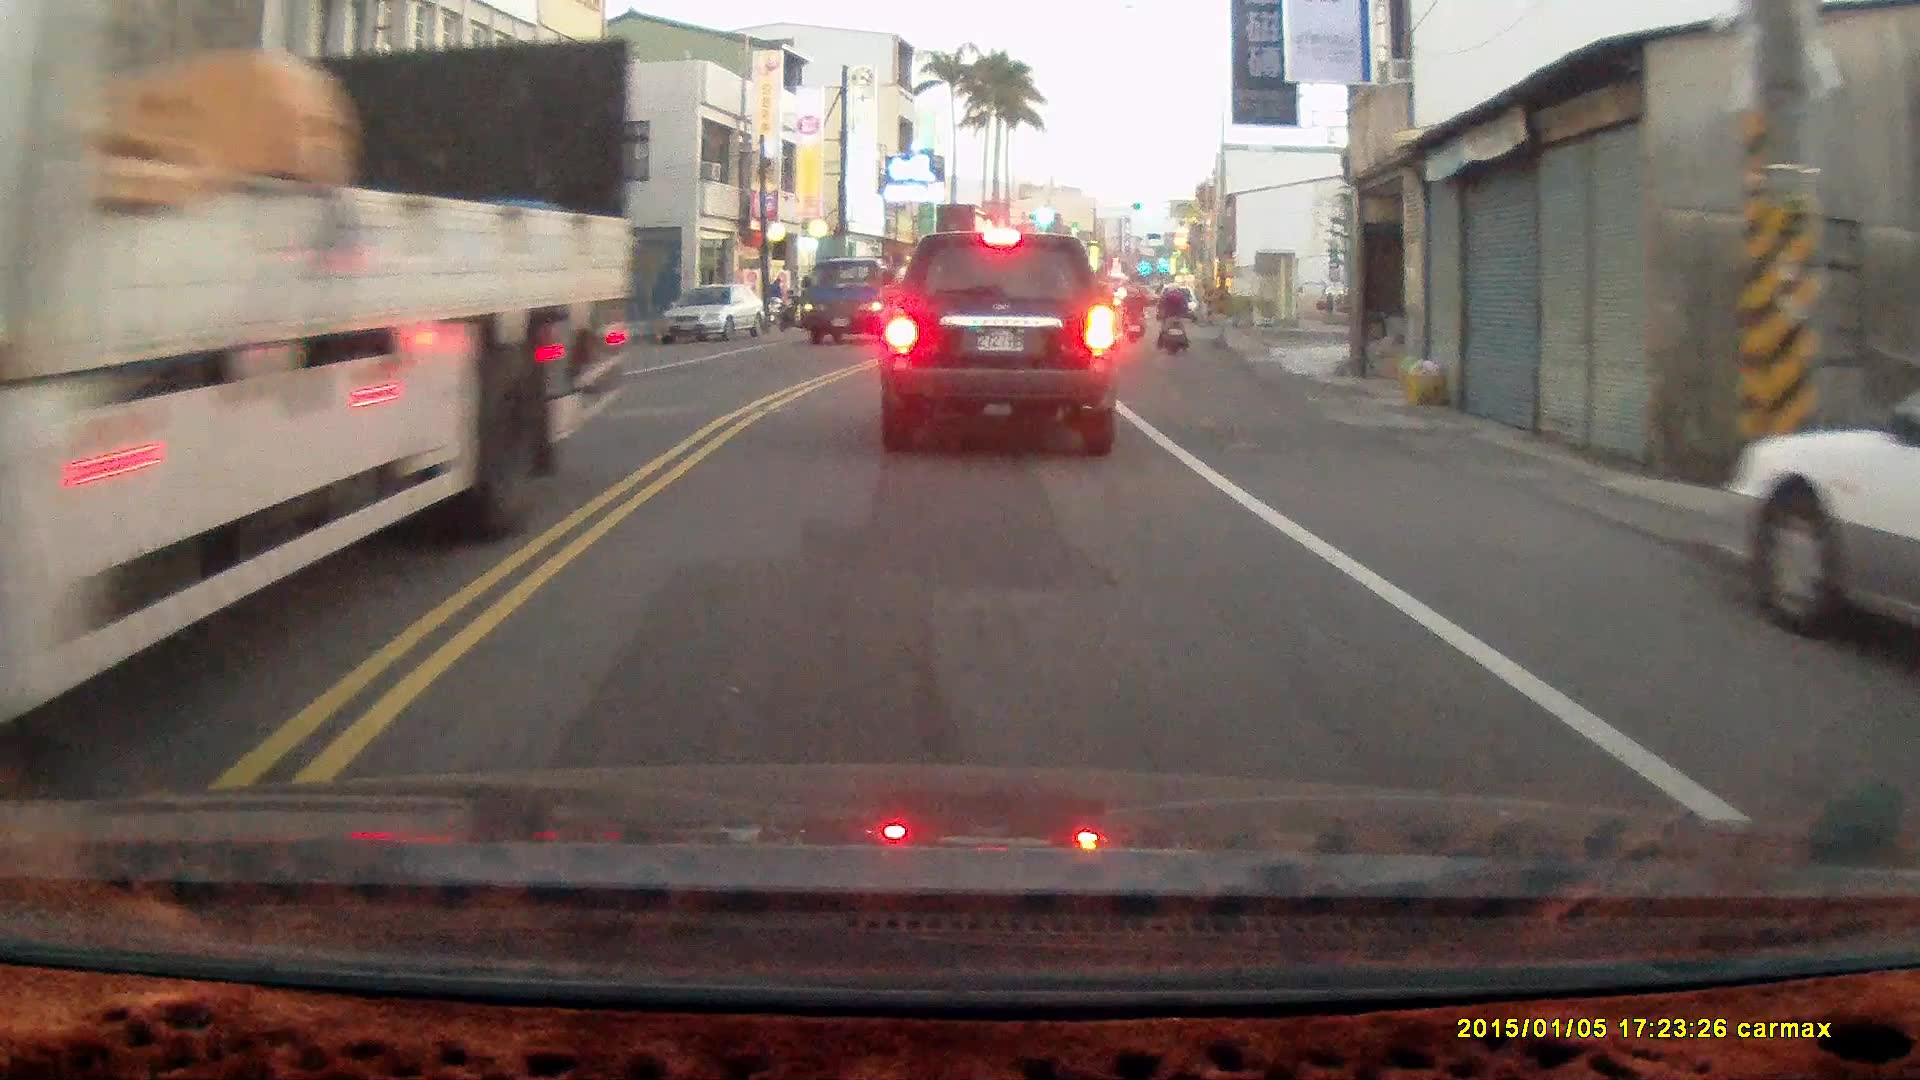rider: (1155, 278, 1186, 358), (1119, 281, 1146, 345)
vehicle: (2, 0, 613, 766), (878, 231, 1124, 459), (1723, 383, 1920, 640), (799, 256, 917, 349), (658, 283, 765, 344)
